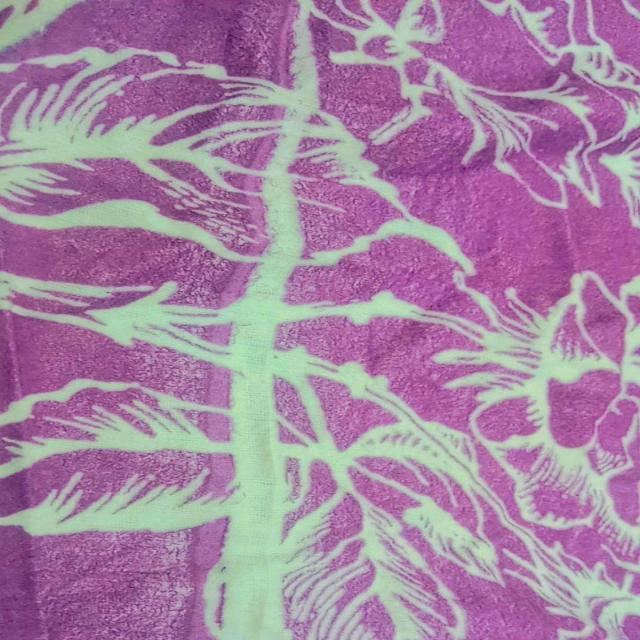selvet: (206, 0, 324, 640)
